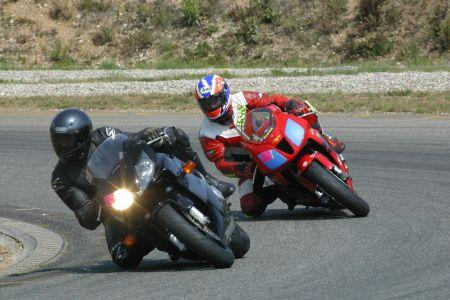motorbike: (71, 139, 248, 265), (234, 109, 371, 226)
